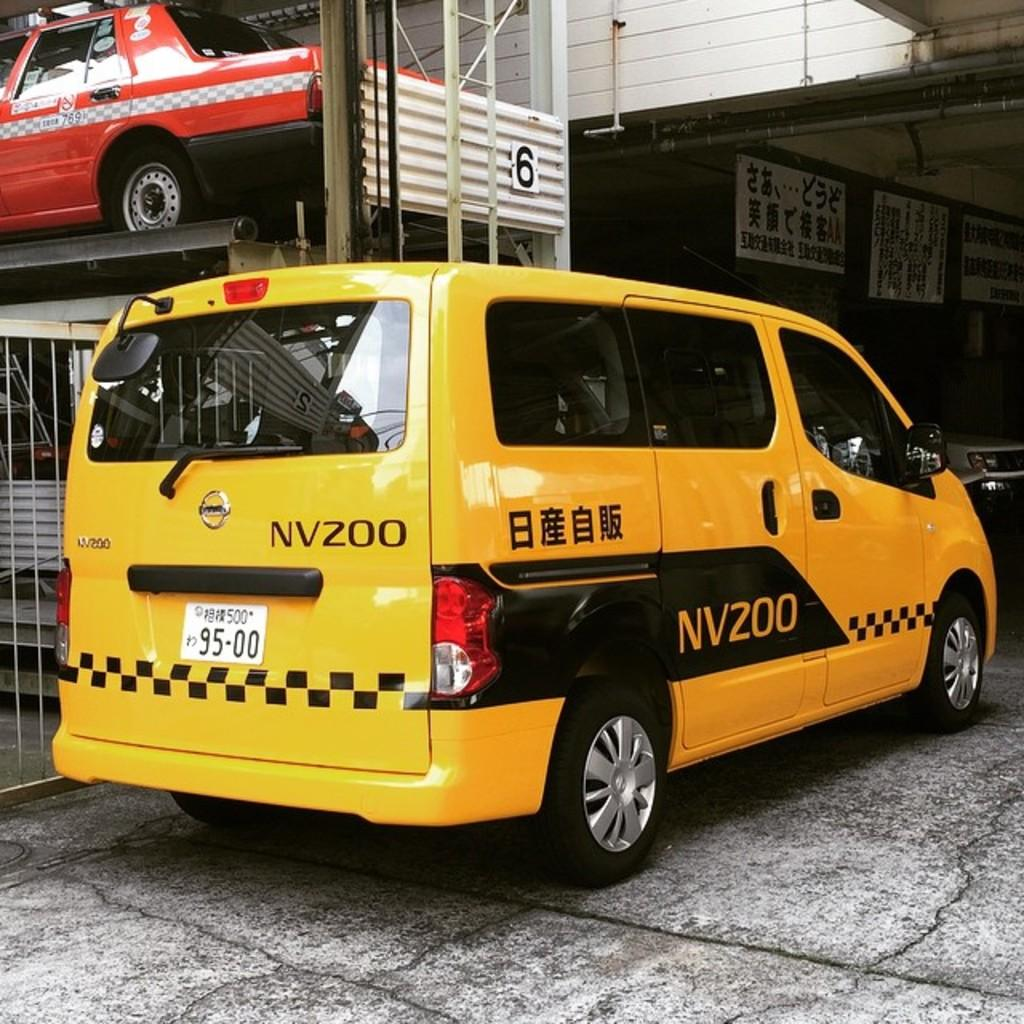vehicle: (53, 261, 994, 887), (0, 4, 480, 231)
